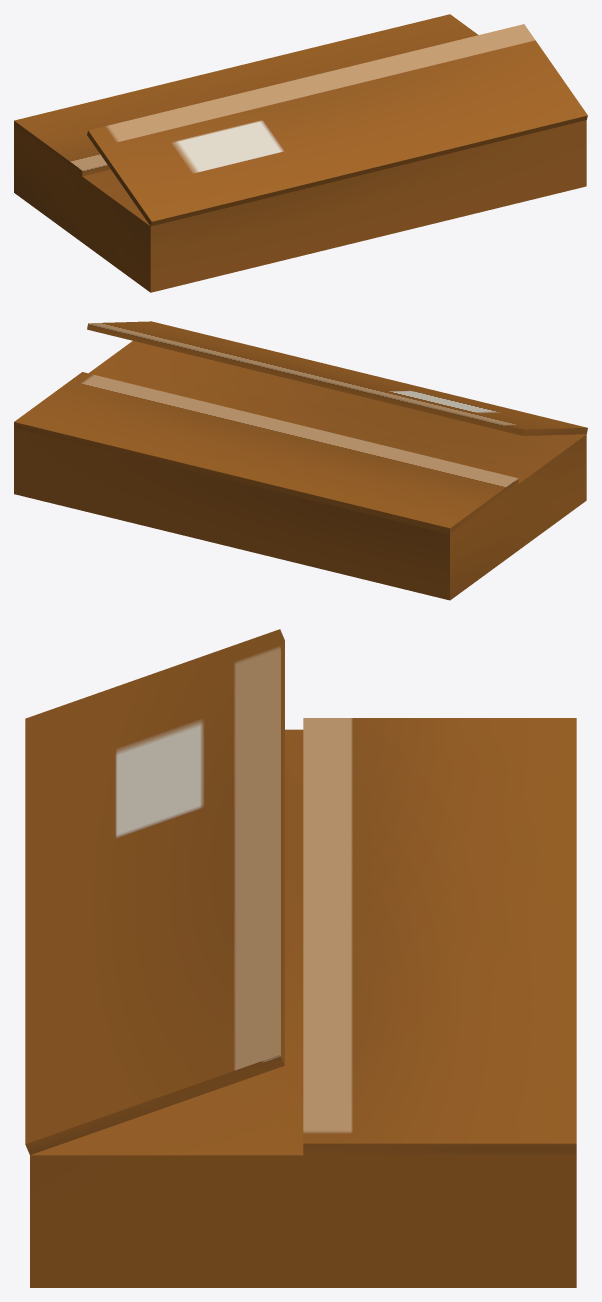
Rendered from Package2.fbx.
3 renders of one model, top to bottom at view 1: azimuth 30°, elevation 25°; view 2: azimuth 150°, elevation 25°; view 3: azimuth 270°, elevation 25°, orthographic. The views are drawn at different scales.
Visible parts, largest first — view 1: oneFlapFlat_package5, oneFlapFlat_package3, oneFlapFlat_package4; view 2: oneFlapFlat_package3, oneFlapFlat_package4, oneFlapFlat_package5; view 3: oneFlapFlat_package4, oneFlapFlat_package5, oneFlapFlat_package3.
Part boxes in pixels (x1,y1,x2,y2): oneFlapFlat_package5: [87, 24, 587, 226]; oneFlapFlat_package3: [14, 120, 586, 292]; oneFlapFlat_package4: [14, 14, 478, 176]; oneFlapFlat_package3: [14, 341, 586, 600]; oneFlapFlat_package4: [14, 372, 518, 533]; oneFlapFlat_package5: [87, 321, 587, 435]; oneFlapFlat_package4: [303, 718, 576, 1155]; oneFlapFlat_package5: [25, 629, 284, 1154]; oneFlapFlat_package3: [30, 729, 576, 1287].
Size of the model in its own units: 8.59 by 2.19 by 4.7.
1 material, 1 textured.
